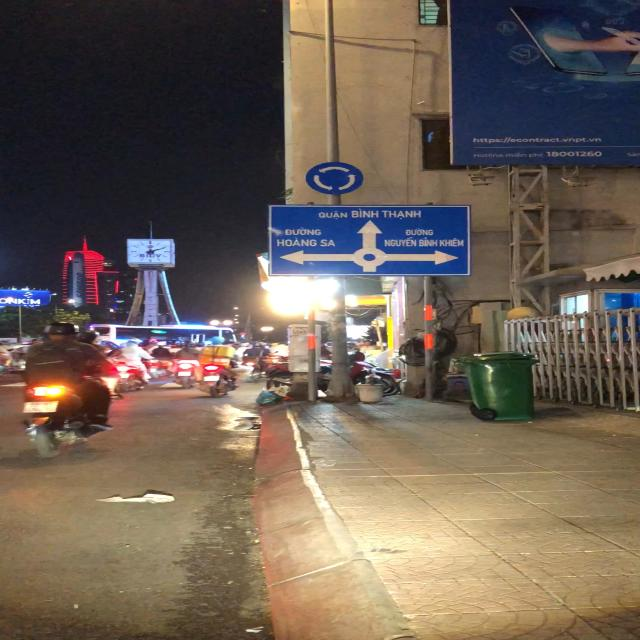Bien bao noi giao nhau chay theo vong xuyen: (304, 159, 365, 195)
